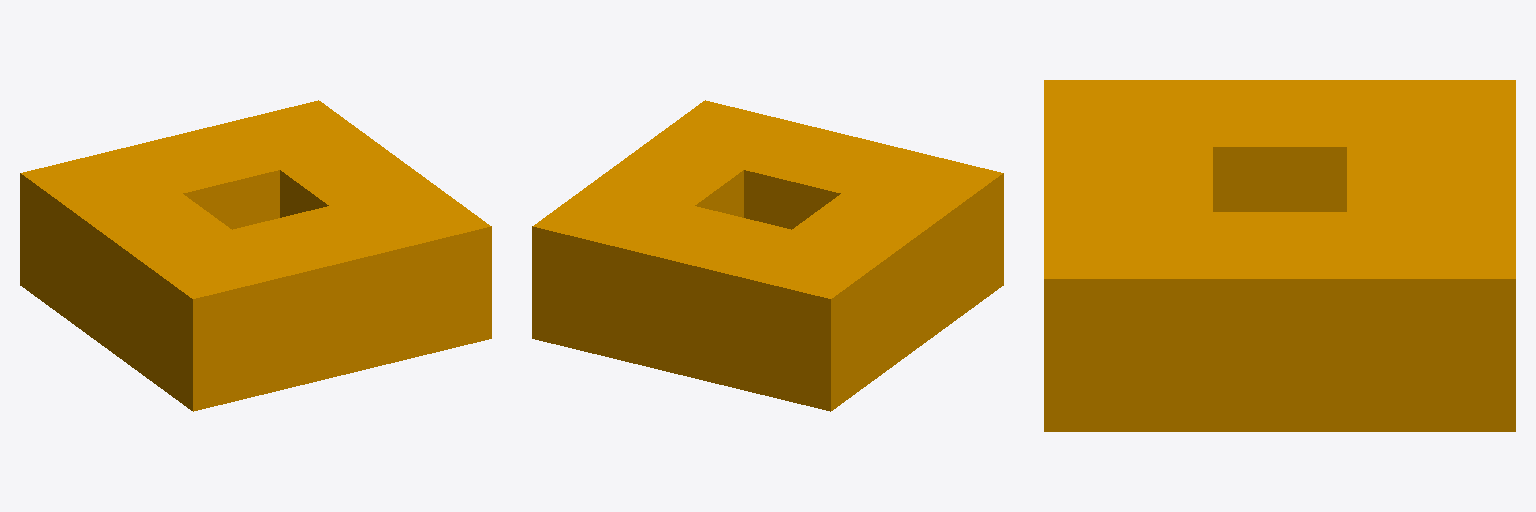
The robot description file, URDF, robot "factory_rectangular_hole_8mm":
<?xml version="1.0"?>
<robot name="factory_rectangular_hole_8mm">
    <link name="factory_rectangular_hole_8mm">
        <visual>
            <geometry>
                <mesh filename="../mesh/factory_insertion/factory_rectangular_hole_8mm_subdiv_3x.obj"/>
            </geometry>
        </visual>
        <collision>
            <geometry>
                <mesh filename="../mesh/factory_insertion/factory_rectangular_hole_8mm_subdiv_3x.obj"/>
            </geometry>
            <sdf resolution="256"/>
        </collision>
    </link>
</robot>

--- What the picture shows (computed from the rendered views, not written in the file) ---
Views: 3 orthographic renders of the robot side by side, from view 1: azimuth 30°, elevation 25°; view 2: azimuth 150°, elevation 25°; view 3: azimuth 270°, elevation 25°.
Robot: factory_rectangular_hole_8mm — 1 links, 0 joints (none); root link factory_rectangular_hole_8mm; default pose: every joint at zero.
Links seen in each view (by area): view 1: factory_rectangular_hole_8mm; view 2: factory_rectangular_hole_8mm; view 3: factory_rectangular_hole_8mm.
Link boxes in pixels (x1,y1,x2,y2): factory_rectangular_hole_8mm: (20, 100, 491, 411); factory_rectangular_hole_8mm: (532, 100, 1003, 411); factory_rectangular_hole_8mm: (1044, 80, 1515, 431).
Bounding box of the posed robot: 0.025 × 0.025 × 0.009 m (x, y, z).
1 mesh visuals loaded from 1 distinct referenced files (1 OBJ).